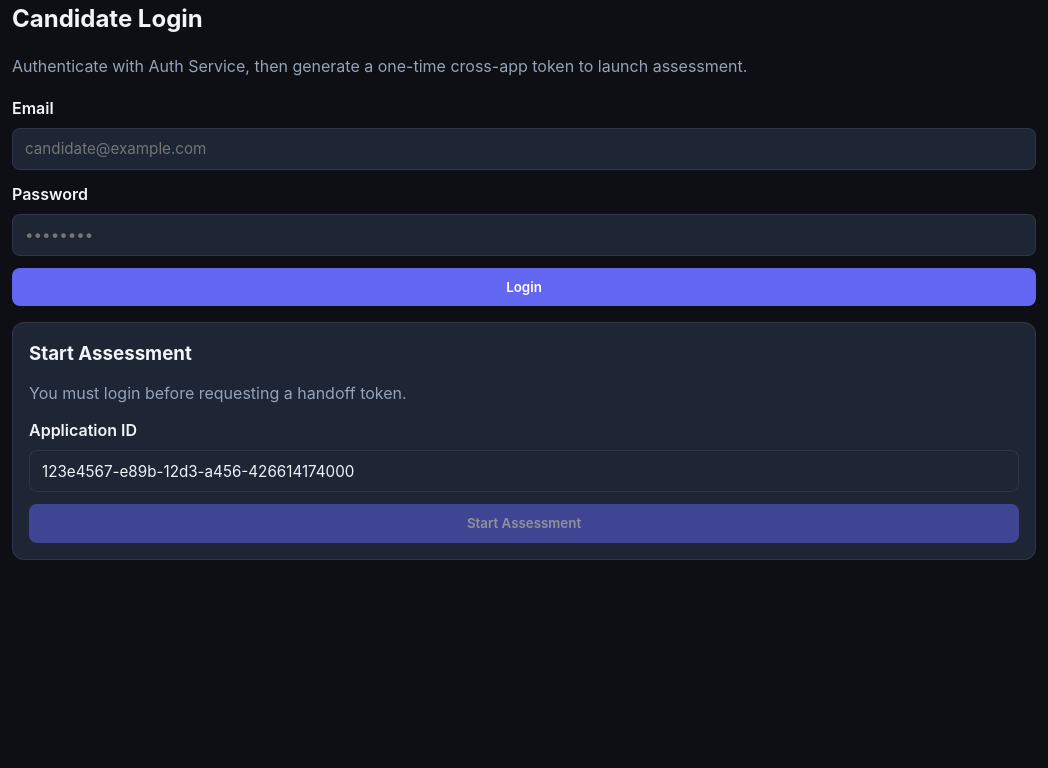
Scenario: AuthPanel › shows login failure error state
Type "wrong@example.com" into the field labelled "Email" at {"x": 524, "y": 149}, box [12, 128, 1036, 170]
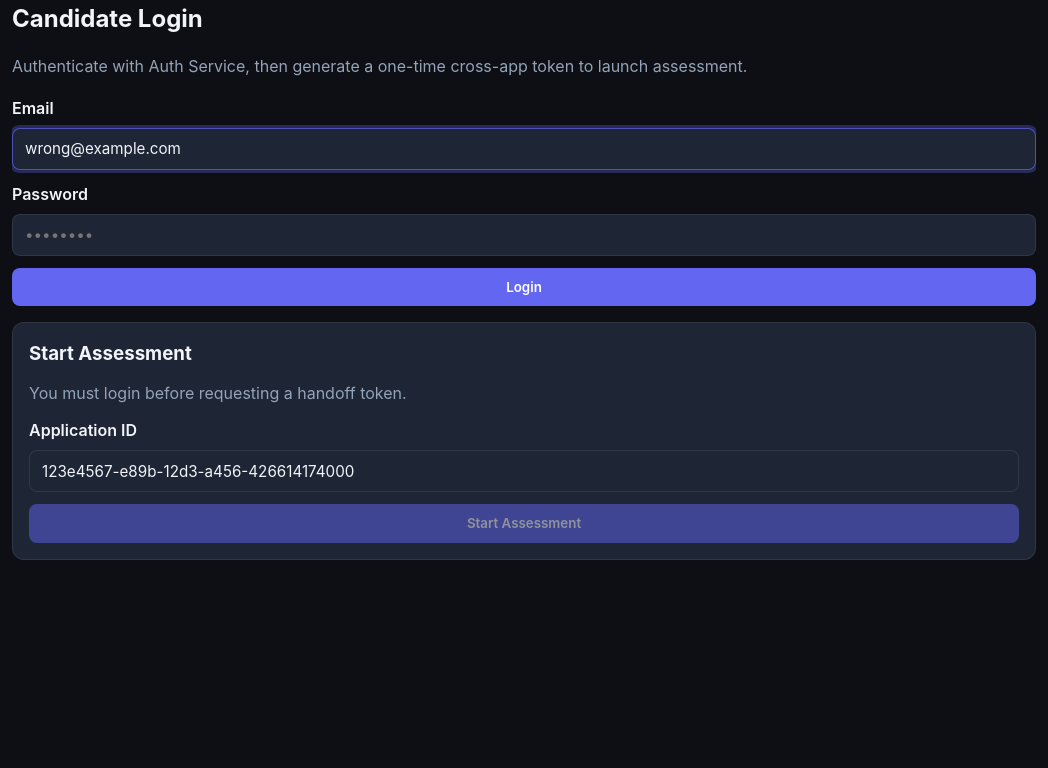
Type "wrong" into the password field labelled "Password" at {"x": 524, "y": 235}, box [12, 214, 1036, 256]
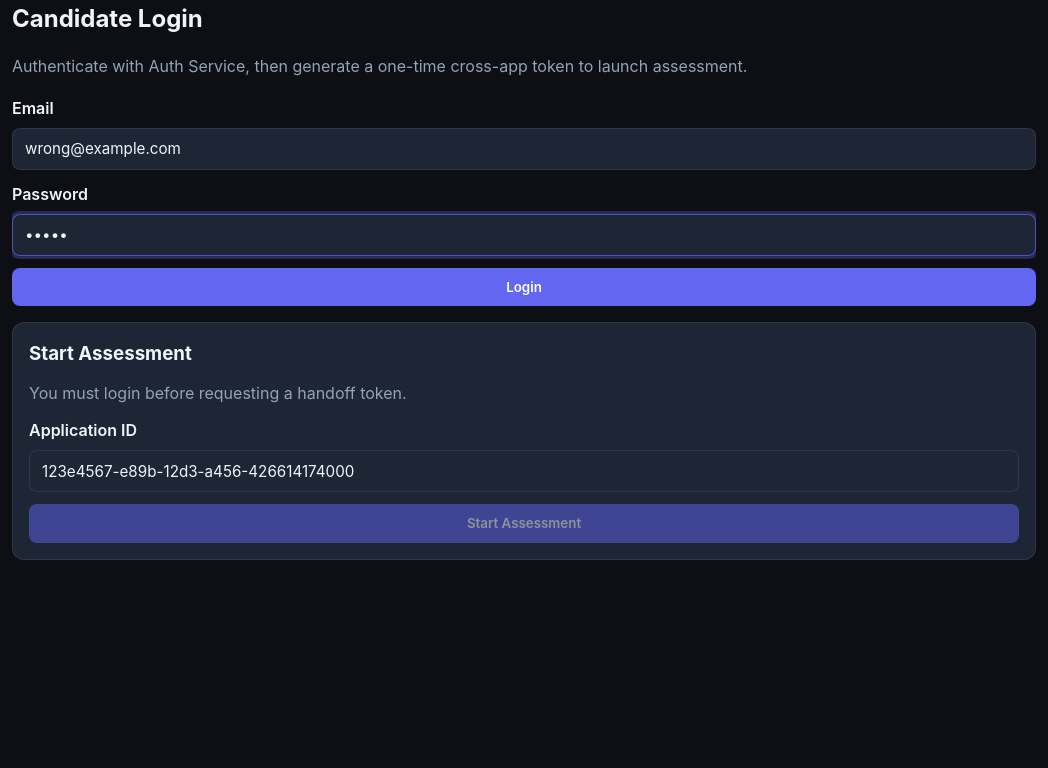
Click the button "Login" at {"x": 524, "y": 287}, box [12, 268, 1036, 306]
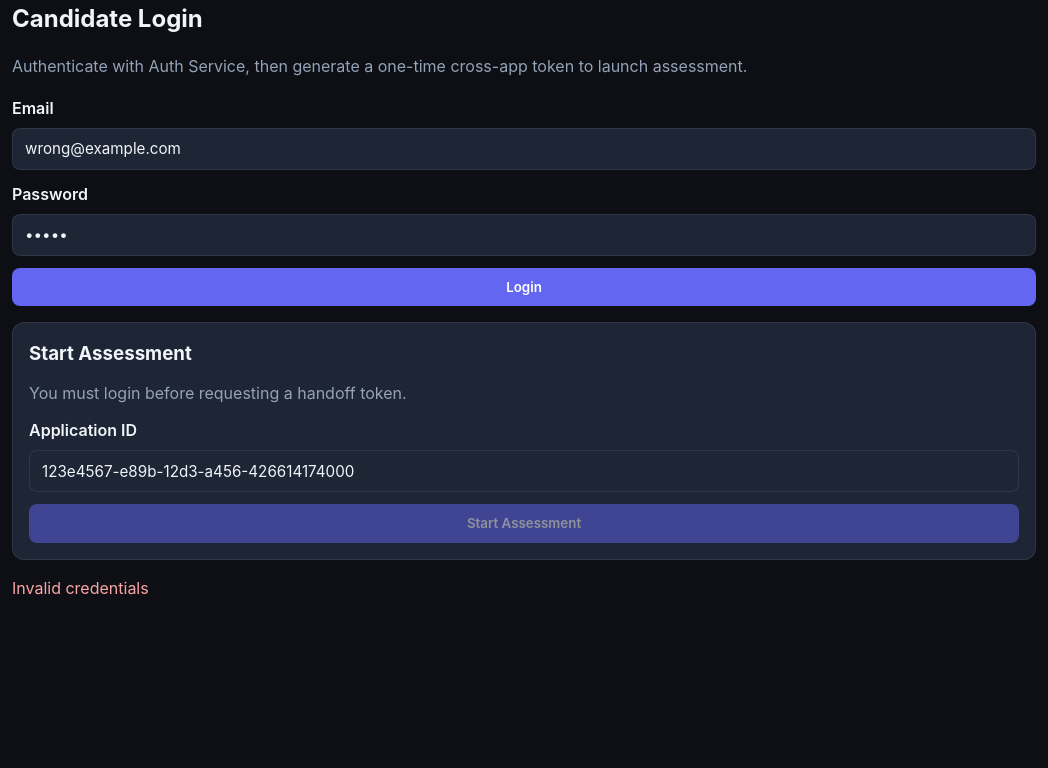
Check: the message reads "Invalid credentials", box [12, 578, 149, 598]
